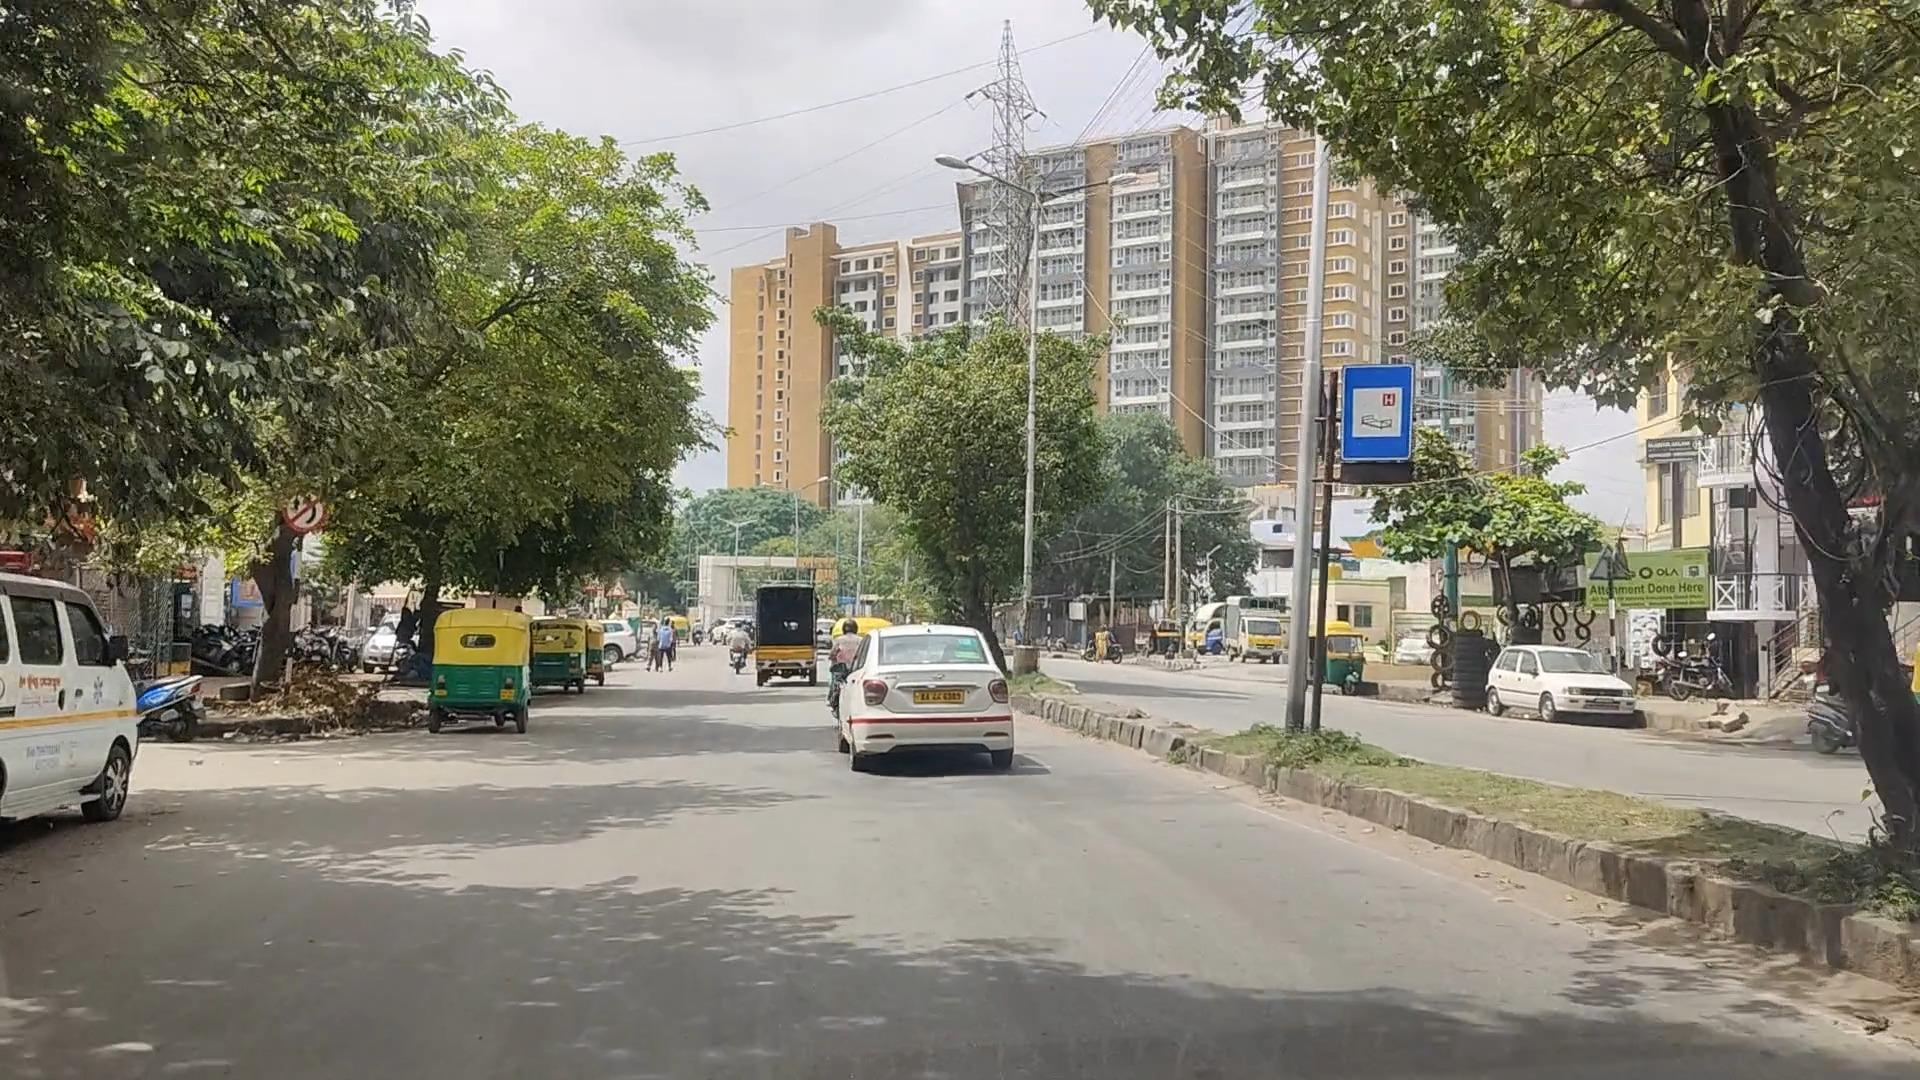LMV: (836, 633, 1015, 769), (436, 622, 541, 725)
